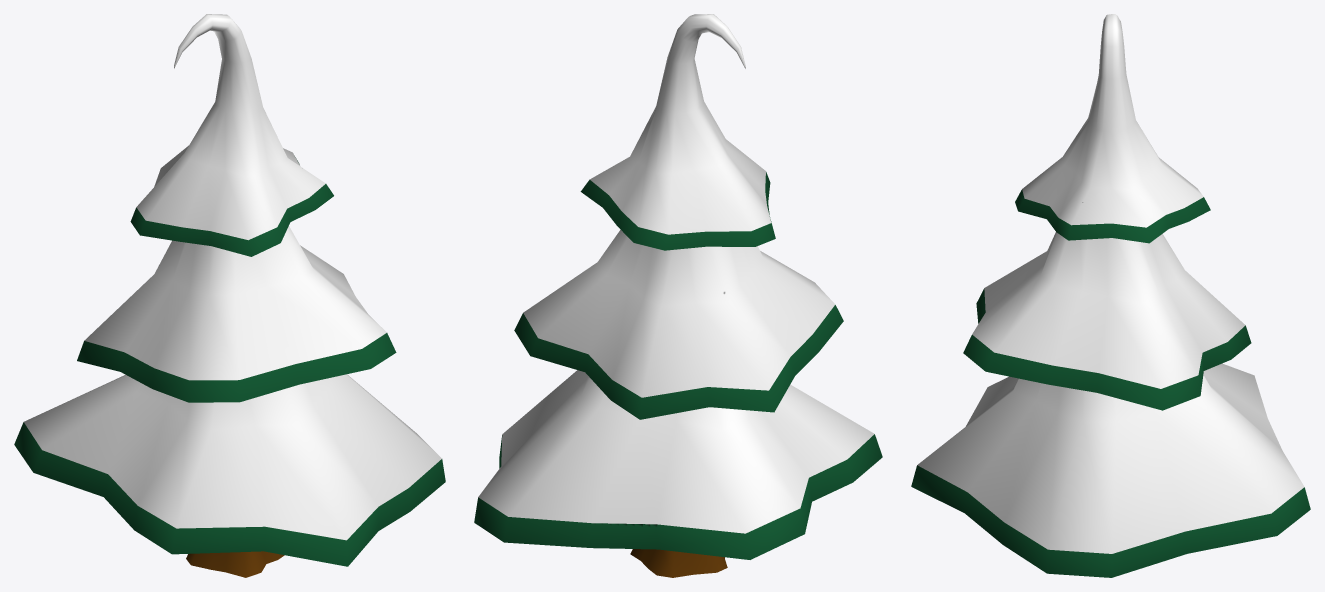
File: BentPine.fbx
3 renders of one model, left to right at view 1: azimuth 30°, elevation 25°; view 2: azimuth 150°, elevation 25°; view 3: azimuth 270°, elevation 25°, orthographic. The views are drawn at different scales.
Visible parts, largest first — view 1: Cone, Trunk; view 2: Cone, Trunk; view 3: Cone.
Part boxes in pixels (left/top/right/bottom): Cone: left=14, top=14, right=445, bottom=566; Trunk: left=186, top=551, right=284, bottom=577; Cone: left=474, top=14, right=882, bottom=559; Trunk: left=630, top=549, right=727, bottom=577; Cone: left=911, top=14, right=1310, bottom=577.
Size of the model in its own units: 811 by 1228 by 858.
1 material, 1 textured.
